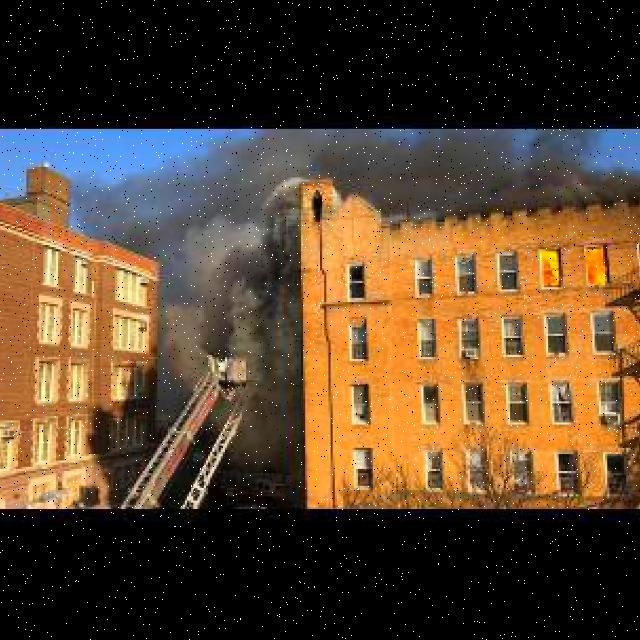fire: (582, 241, 618, 296), (536, 243, 570, 294)
smoke: (98, 129, 314, 481), (358, 129, 640, 209)
